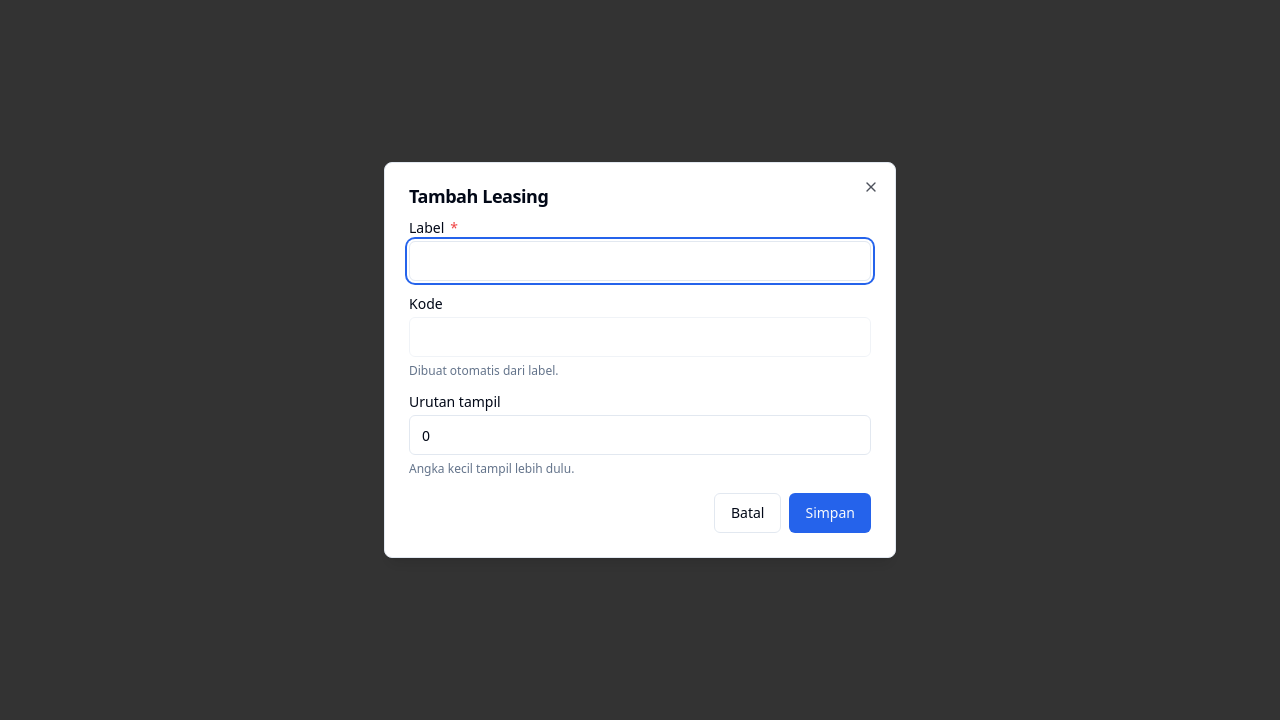
Test: MasterDataFormDialog › rejects an empty label
The image size is (1280, 720).
What coordinates should you click on to do the following:
click the button "Simpan"
I would click on:
 (830, 513)
Its box is left=790, top=493, right=871, bottom=533.
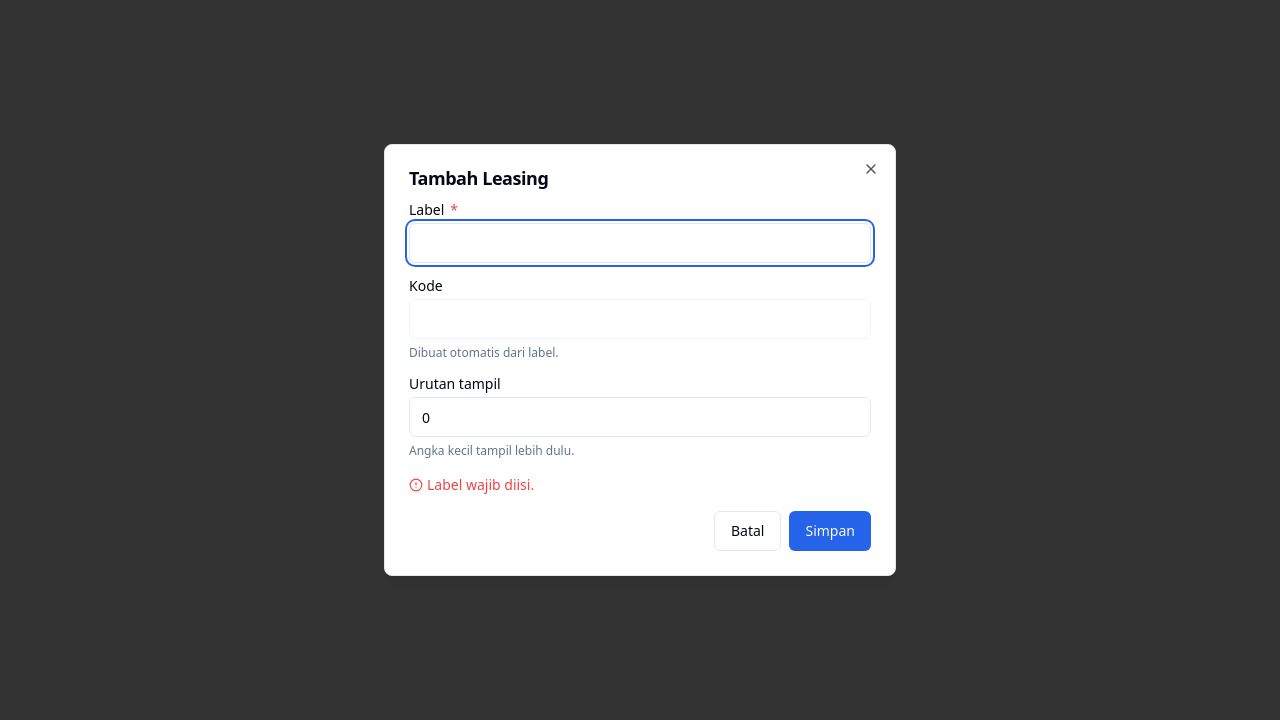
Check: the text "Label wajib diisi." is shown, box left=409, top=475, right=534, bottom=494
